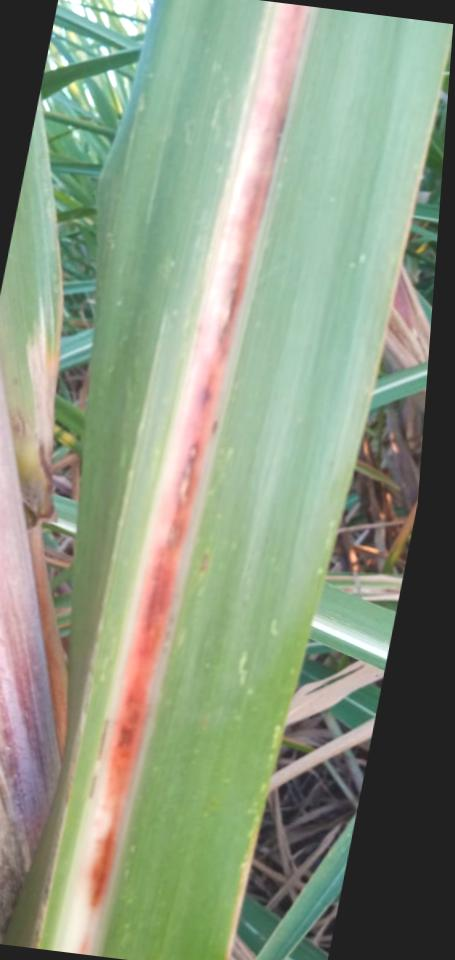RedRot: (77, 3, 309, 954)
